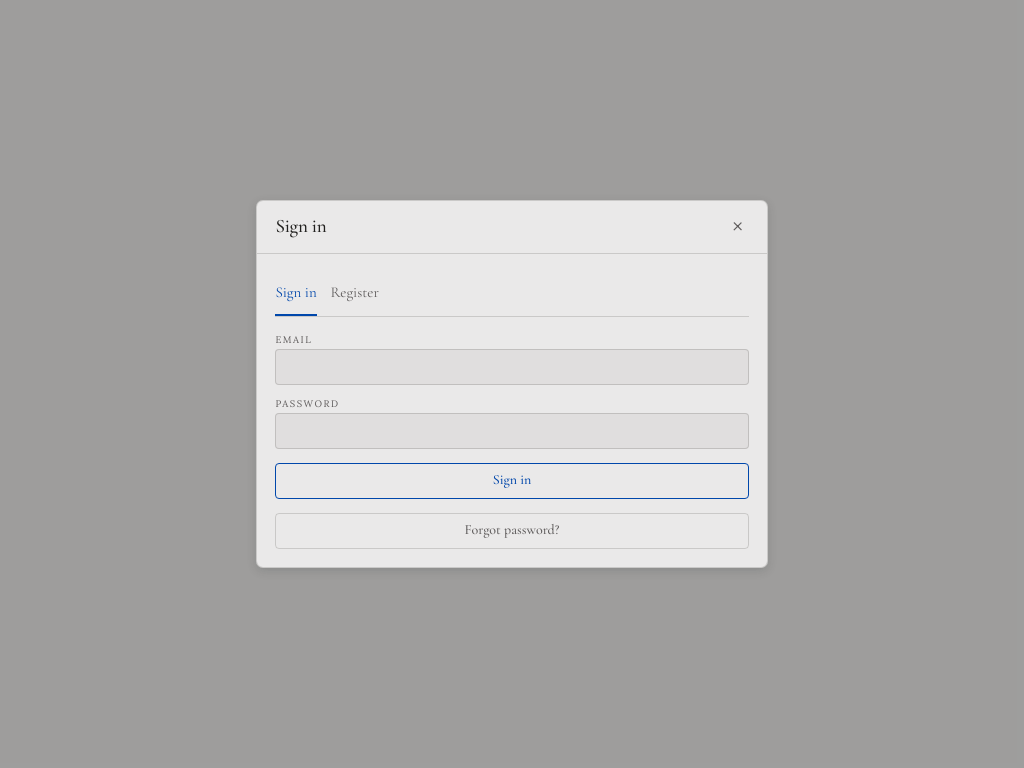
Test: a forgotten password › sends the link and shows the same answer for any address
Click the button "Forgot password?": (512, 531) [275,513,749,549]
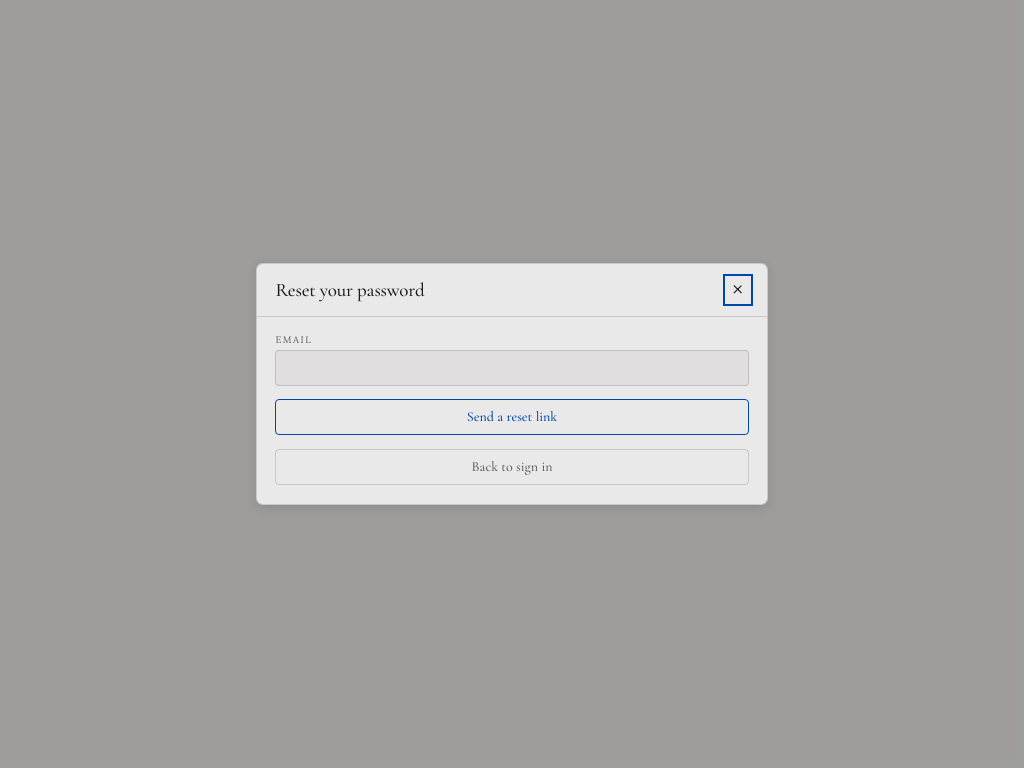
In the field labelled "Email": (512, 368) [275,350,749,386], type "a@example.com"
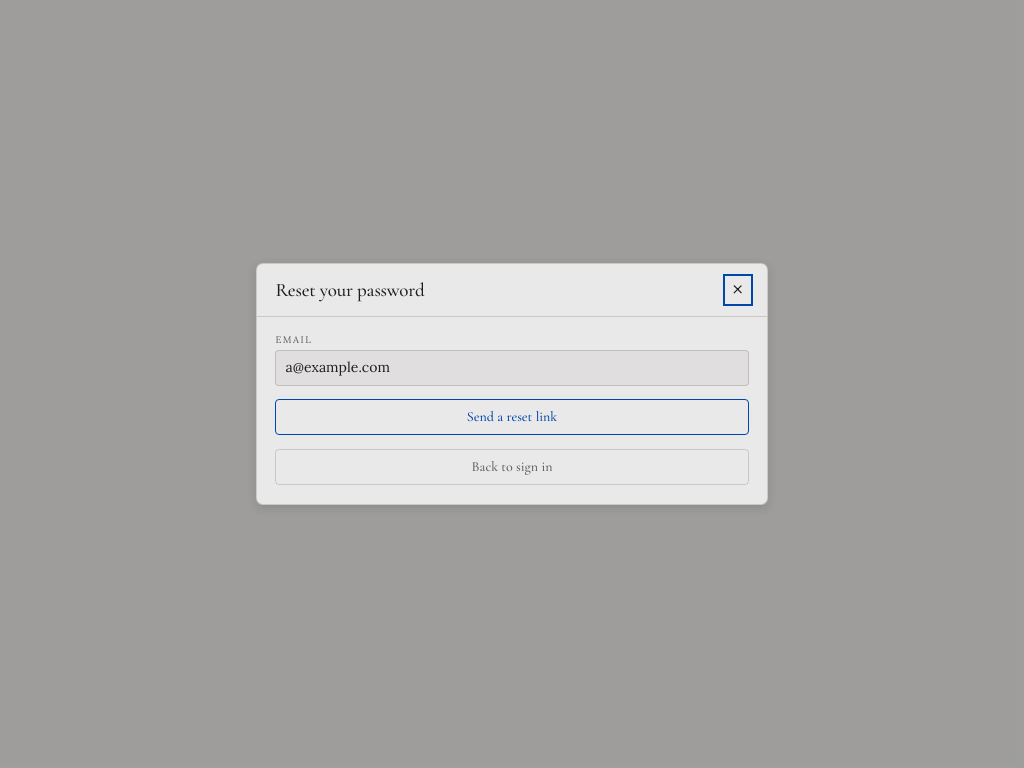
Submit the form, box [275,336,749,485]
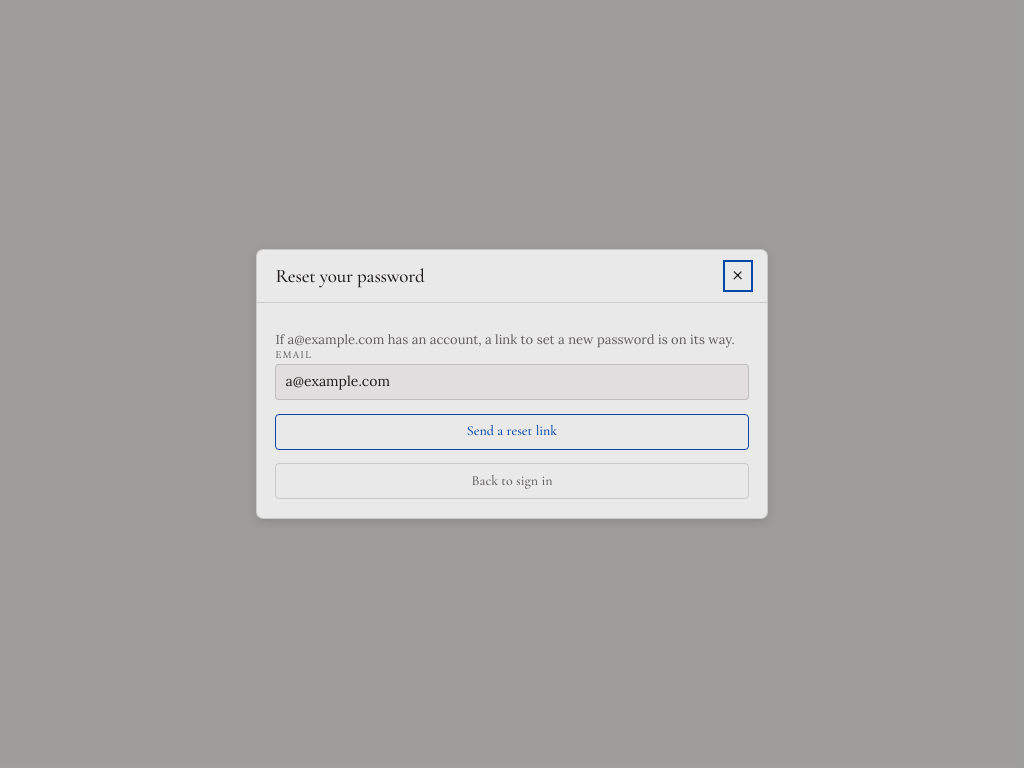
Expected: the message "If a@example.com has an account, a link to set a new password is on its way." is shown, [275,330,749,350]
